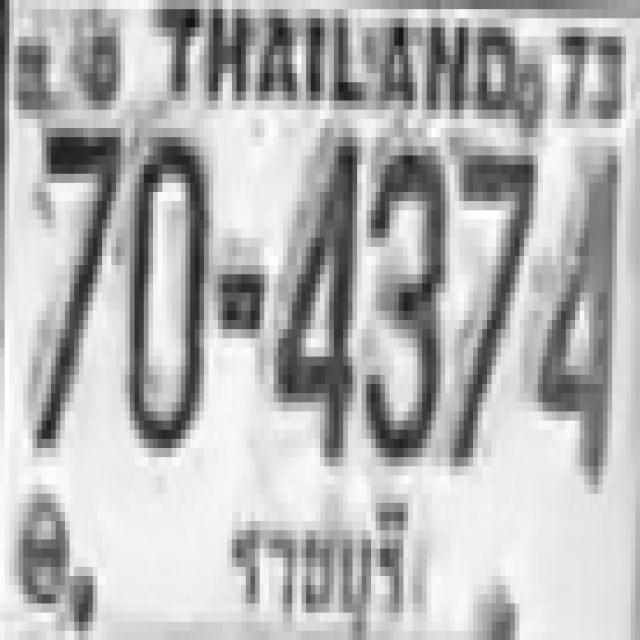0: (123, 128, 206, 448)
3: (362, 137, 445, 457)
4: (271, 128, 355, 457), (533, 147, 617, 476)
7: (26, 119, 119, 439), (450, 146, 533, 457)
RBR: (218, 488, 414, 640)
